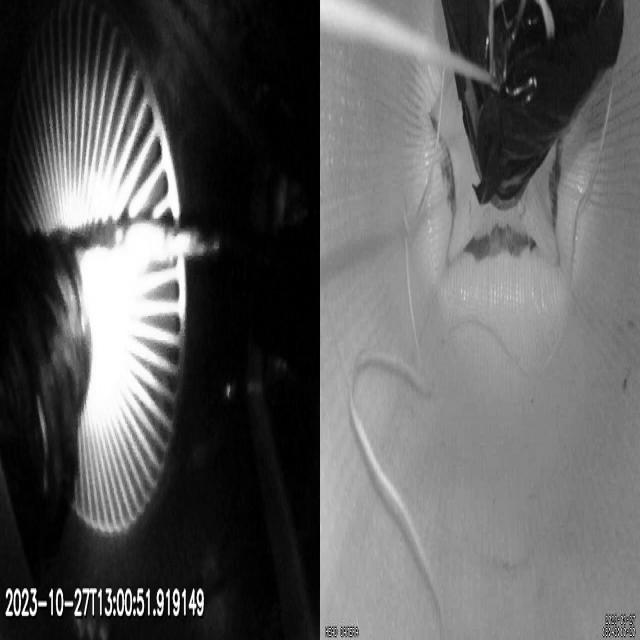red-circle: (429, 108, 563, 256)
